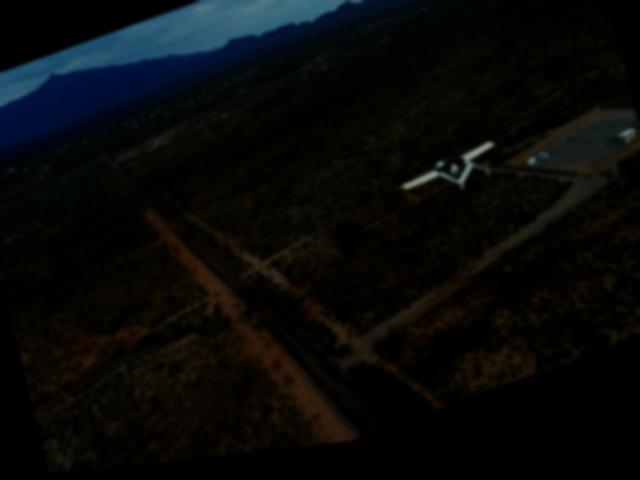plane: (398, 148, 502, 218)
